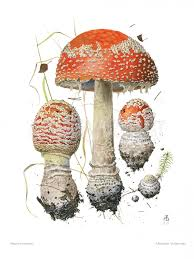Amanita muscaria: (53, 27, 160, 214), (26, 100, 83, 216), (118, 97, 164, 169)
